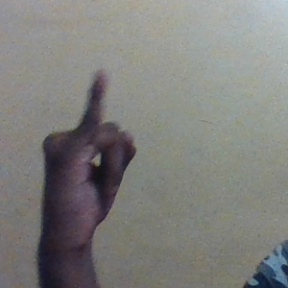I: (38, 67, 141, 253)
